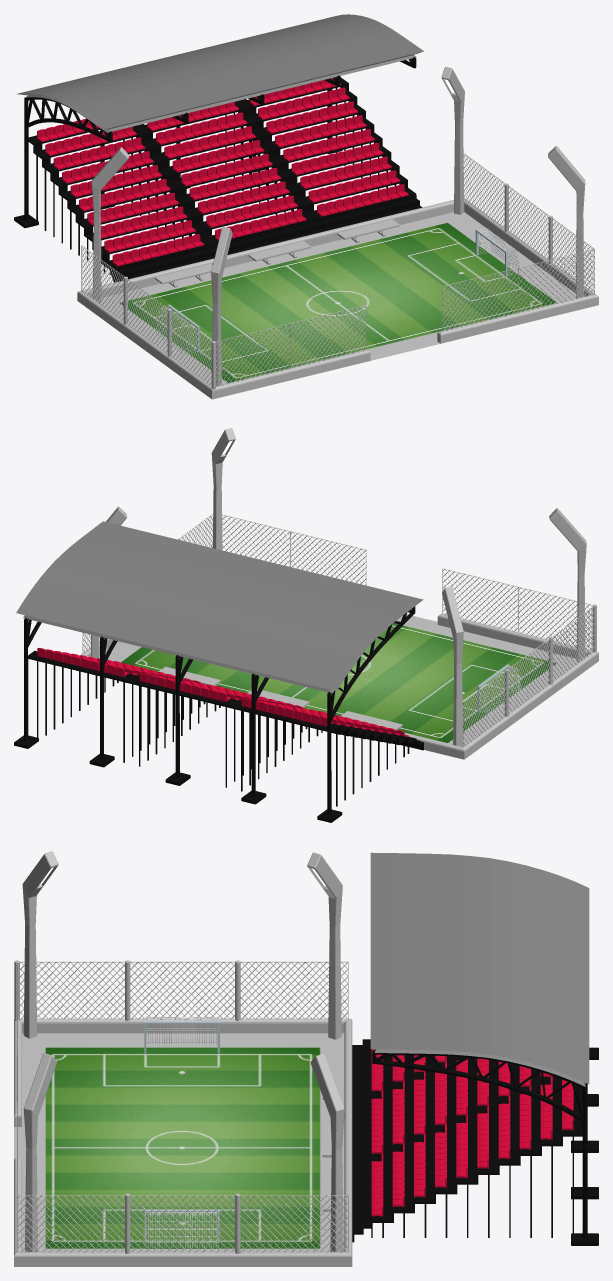
File: football_court.glb
3 views of the same model, one above another, from view 1: azimuth 30°, elevation 25°; view 2: azimuth 150°, elevation 25°; view 3: azimuth 270°, elevation 25° (orthographic). The views are drawn at different scales.
Visible parts, largest first — view 1: court; view 2: court; view 3: court.
Part boxes in pixels (x1=…): court: x1=14, y1=14, x2=598, y2=399; court: x1=14, y1=428, x2=598, y2=822; court: x1=14, y1=851, x2=598, y2=1266.
Bounding box in the file's own units: 26.5 × 10.32 × 27.68.
Materials: 7 (3 with a texture image).
